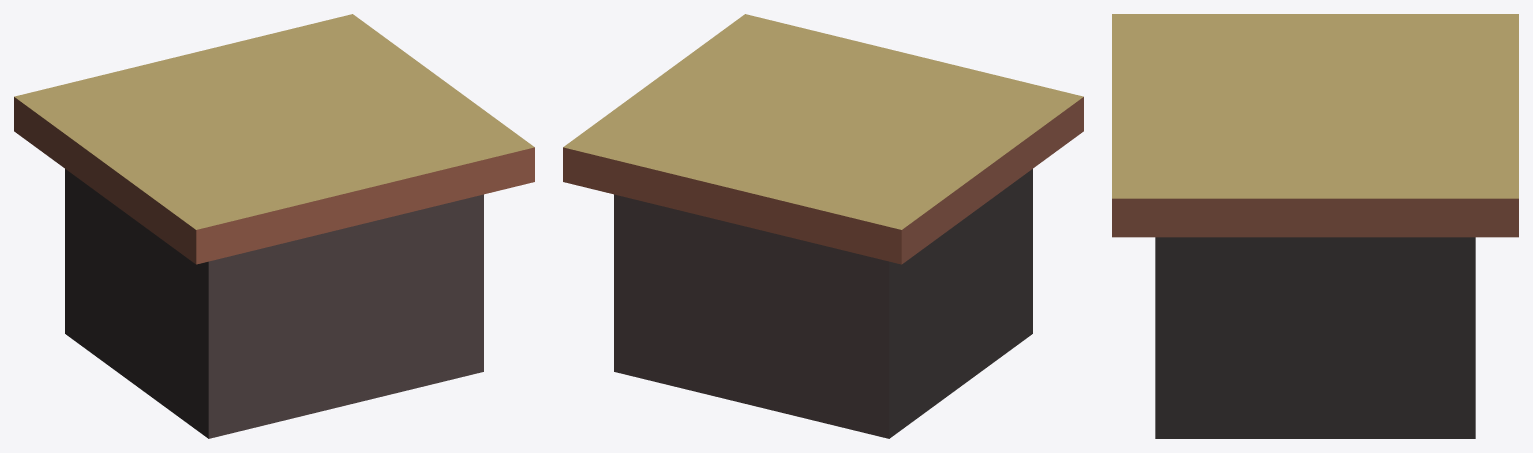
Rendered from TB_D_Prop_StoreStand_B.FBX.
3 renders of one model, left to right at view 1: azimuth 30°, elevation 25°; view 2: azimuth 150°, elevation 25°; view 3: azimuth 270°, elevation 25°, orthographic. The views are drawn at different scales.
Visible parts, largest first — view 1: TB_D_Prop_StoreStand_B; view 2: TB_D_Prop_StoreStand_B; view 3: TB_D_Prop_StoreStand_B.
Part boxes in pixels (left/top/right/bottom): TB_D_Prop_StoreStand_B: left=14, top=14, right=534, bottom=438; TB_D_Prop_StoreStand_B: left=563, top=14, right=1083, bottom=438; TB_D_Prop_StoreStand_B: left=1112, top=14, right=1518, bottom=438.
Size of the model in its own units: 1.65 by 1.07 by 1.53.
